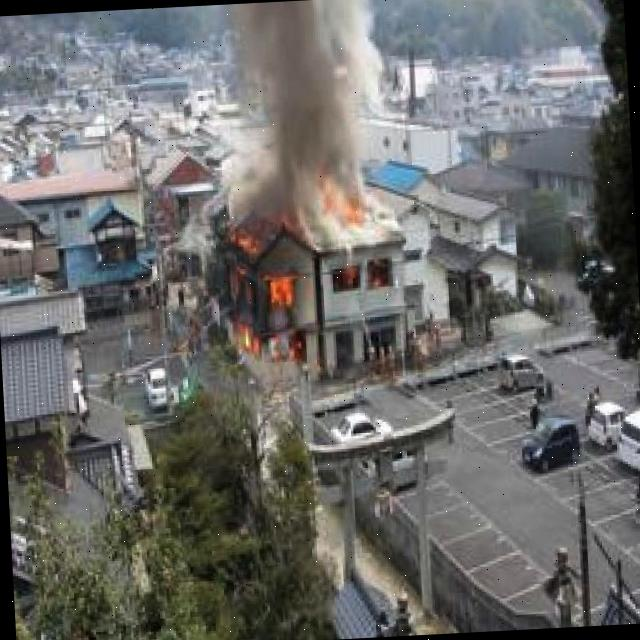fire: (220, 234, 310, 371)
